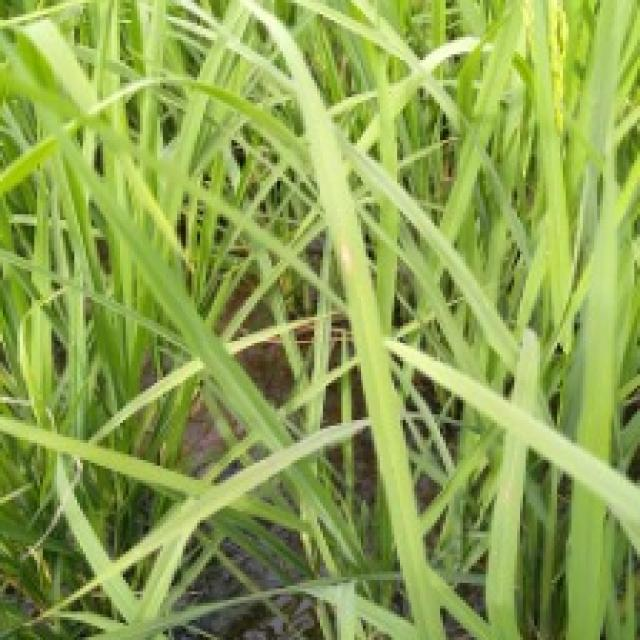Rice___Brown_Spot: (244, 4, 446, 637)
